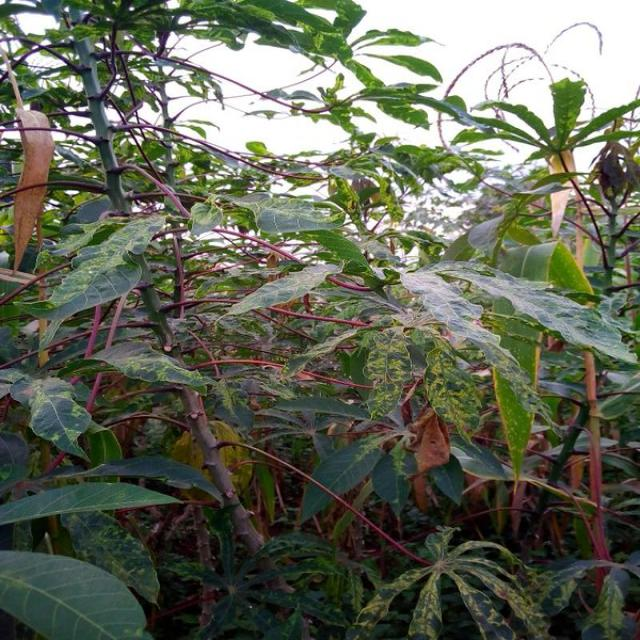cassava leaf: (2, 1, 640, 637), (28, 211, 166, 322), (1, 548, 150, 638)
